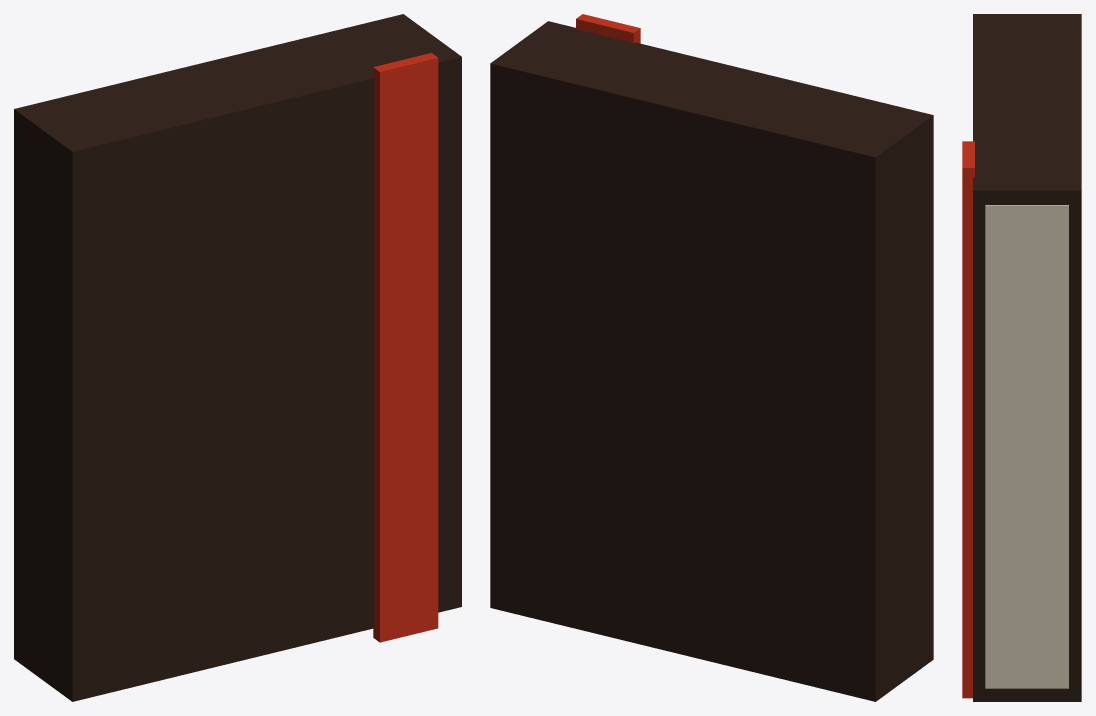
Rendered from ledger.glb.
3 views of the same model, side by side, from view 1: azimuth 30°, elevation 25°; view 2: azimuth 150°, elevation 25°; view 3: azimuth 270°, elevation 25° (orthographic). The views are drawn at different scales.
Parts seen in each view (by area): view 1: Ledger; view 2: Ledger; view 3: Ledger.
Boxes of the visible parts, x1,y1,x2,y2 form: Ledger: [14, 14, 461, 701]; Ledger: [490, 14, 933, 701]; Ledger: [962, 14, 1081, 701].
Size of the model in its own units: 0.201 by 0.28 by 0.057.
